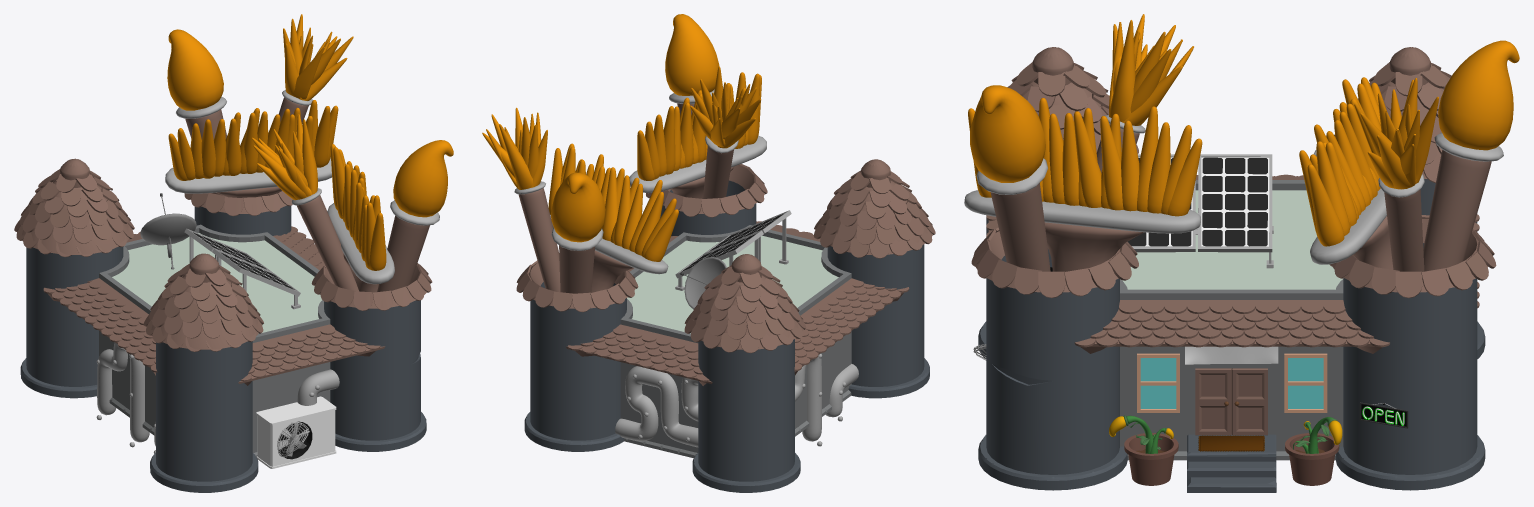
File: artstore.glb
3 views of the same model, side by side, from view 1: azimuth 30°, elevation 25°; view 2: azimuth 150°, elevation 25°; view 3: azimuth 270°, elevation 25° (orthographic). The views are drawn at different scales.
Visible parts, largest first — view 1: pillars, toproof, brush.005, shingles, cap.001, cap, brush.001, brush.003, brush.004, Air_Conditioner.001, brush.002, brush (+9 smaller); view 2: pillars, toproof, shingles, brush.005, cap.001, cap, brush.003, pipes, brush, brush.002, brush.004, main (+8 smaller); view 3: pillars, brush.003, toproof, brush.002, shingles, brush.005, brush.001, SolarPanel_Roof, main, brush, brush.004, cap.003 (+16 smaller).
Boxes of the visible parts, x1,y1,x2,y2 form: pillars: (17, 181, 430, 492); toproof: (99, 224, 330, 342); brush.005: (165, 100, 338, 197); shingles: (43, 226, 380, 381); cap.001: (143, 263, 263, 351); cap: (14, 169, 134, 257); brush.001: (377, 140, 453, 291); brush.003: (327, 144, 394, 292); brush.004: (252, 114, 359, 291); Air_Conditioner.001: (256, 396, 336, 468); brush.002: (167, 29, 226, 195); brush: (278, 14, 353, 123); pillars: (524, 165, 932, 492); toproof: (620, 225, 851, 343); shingles: (568, 221, 909, 381); brush.005: (548, 143, 678, 292); cap.001: (813, 170, 935, 258); cap: (684, 265, 806, 353); brush.003: (629, 72, 766, 198); pipes: (615, 353, 858, 447); brush: (482, 107, 560, 292); brush.002: (551, 172, 605, 293); brush.004: (690, 66, 761, 198); main: (620, 331, 851, 452); pillars: (973, 81, 1487, 490); brush.003: (964, 98, 1202, 271); toproof: (1120, 180, 1343, 299); brush.002: (1423, 40, 1519, 271); shingles: (986, 174, 1479, 347); brush.005: (1299, 77, 1393, 269); brush.001: (970, 85, 1050, 271); SolarPanel_Roof: (1127, 154, 1273, 268); main: (1120, 346, 1343, 451); brush: (1354, 78, 1438, 271); brush.004: (1096, 14, 1193, 172); cap.003: (971, 227, 1138, 298).
Size of what is drawn, in the model's own units: 12.53 by 12.14 by 13.68.
Materials: 101 (2 with a texture image).
